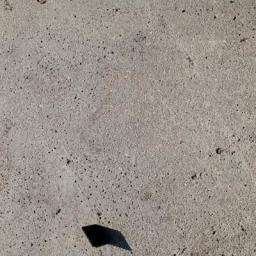FOD: (80, 222, 135, 256)
